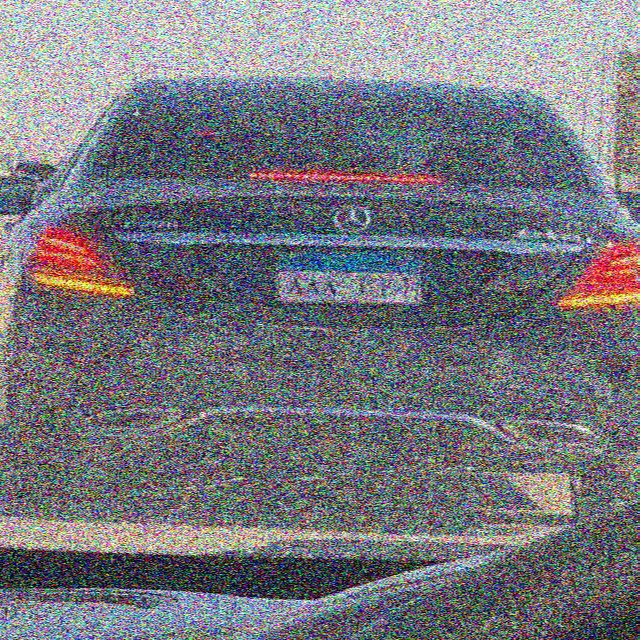License Plate: (272, 251, 422, 305)
